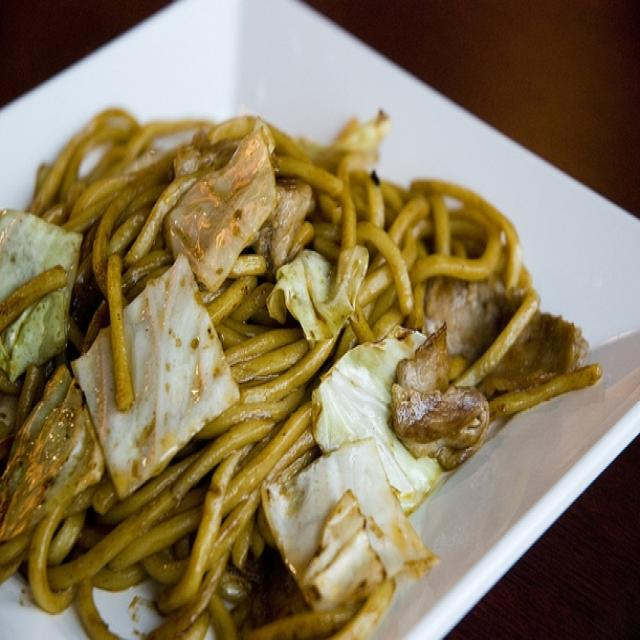面条主食: (8, 13, 630, 629)
